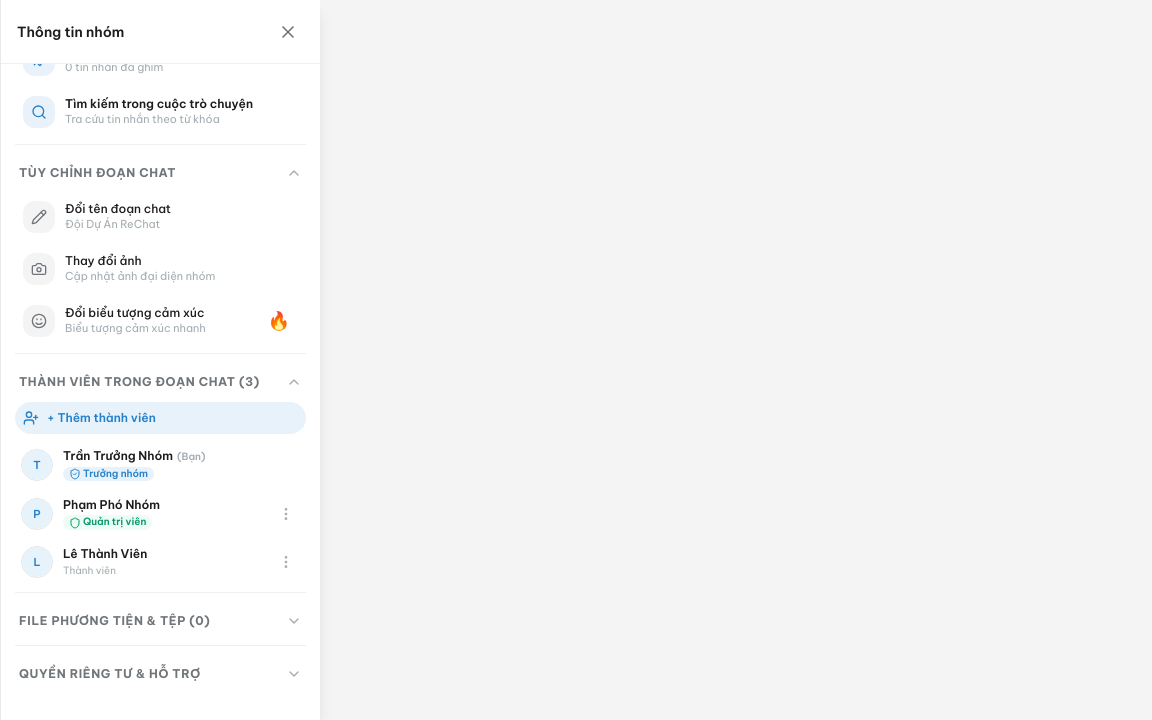
Test: ChatDetailDrawer Component Tests › handles leave group action with confirmation dialog
Later steps or results of the test are not shown.
(page scrolled)
// Expand privacy accordion
Click the button with test id "accordion-privacy": x=160, y=674 x1=15 y1=658 x2=306 y2=690
(page scrolled)
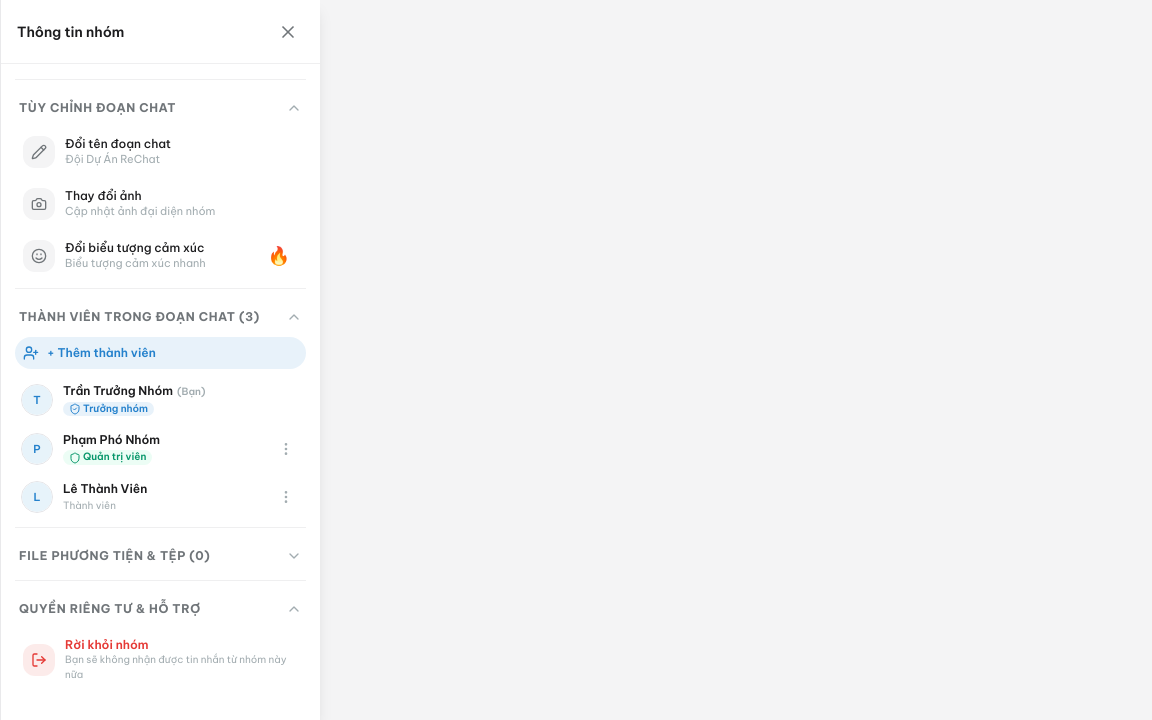
// Privacy accordion section has "leave-group-button"
Click the button with test id "leave-group-button": x=160, y=660 x1=15 y1=629 x2=306 y2=690
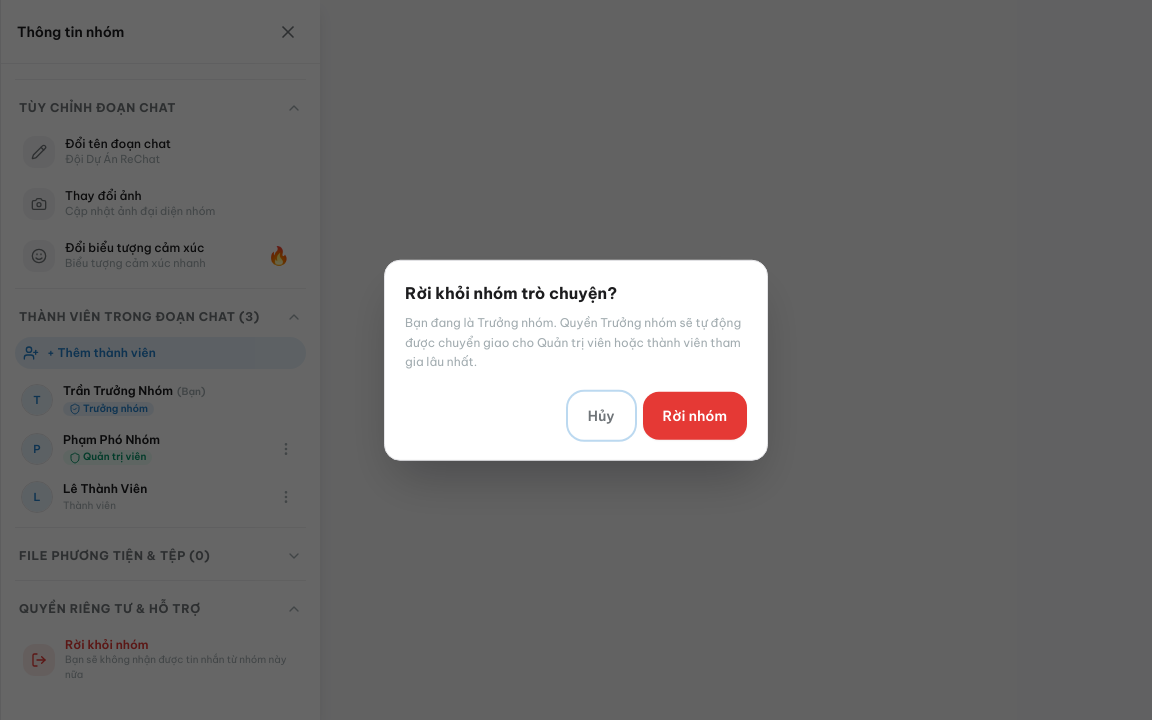
Now the heading "Rời khỏi nhóm trò chuyện?" is shown, box x1=405 y1=283 x2=617 y2=303
